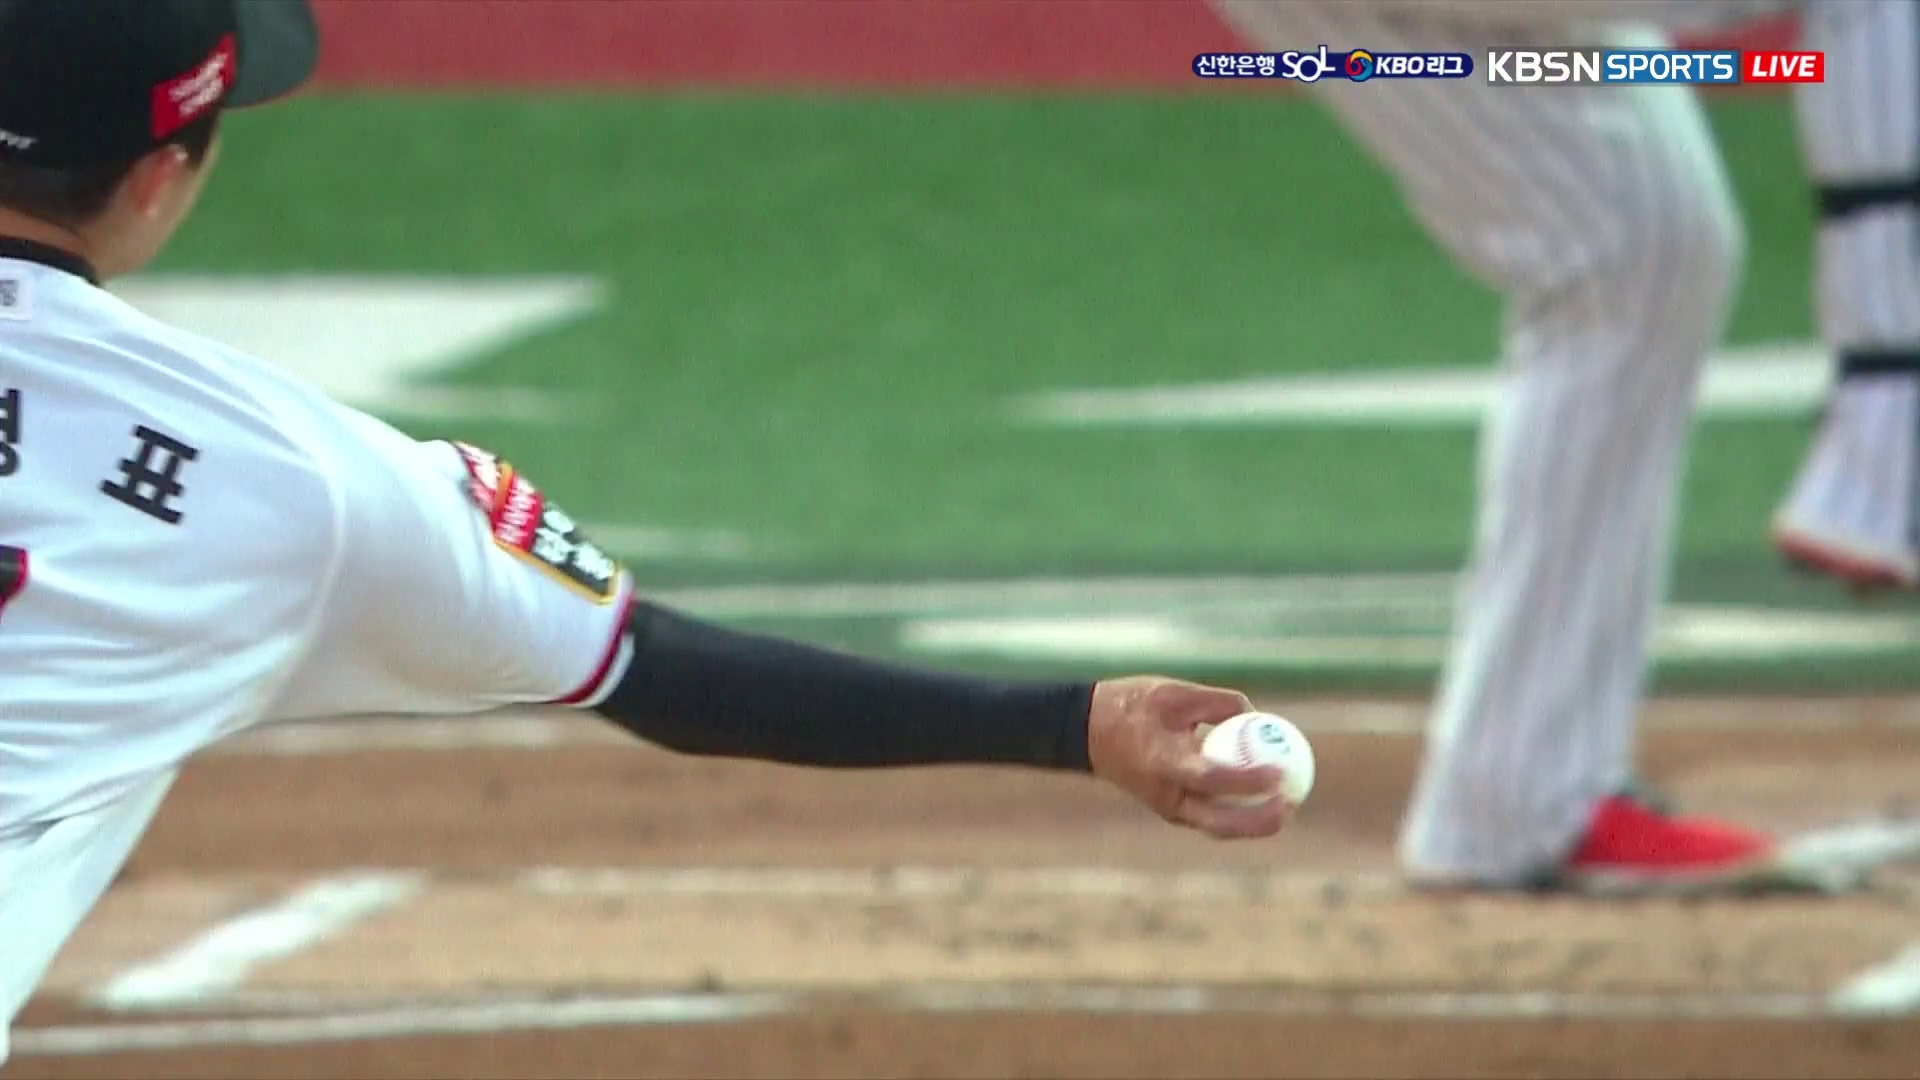zoomin_hand: (600, 546, 1331, 851)
